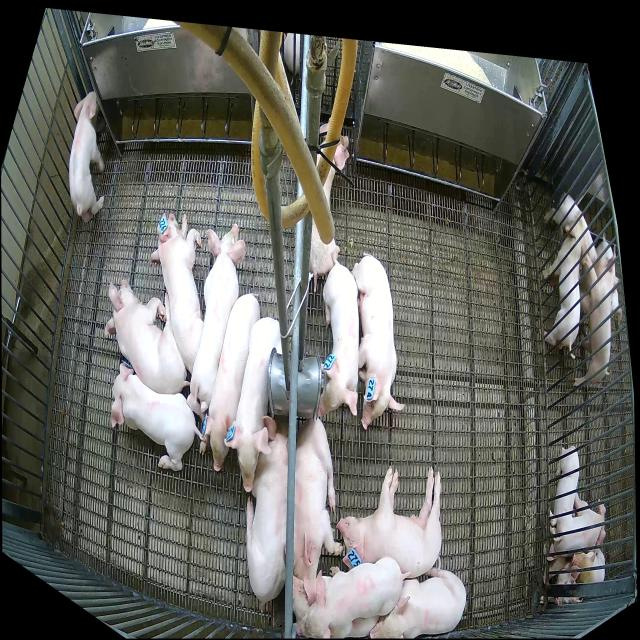pig: (337, 465, 442, 578), (187, 223, 246, 423), (199, 293, 260, 471), (224, 317, 282, 492), (104, 279, 190, 397), (112, 362, 199, 471), (352, 256, 406, 430), (296, 557, 407, 638), (149, 212, 204, 373), (293, 418, 344, 580), (247, 415, 289, 603), (309, 123, 350, 292), (370, 568, 466, 639), (317, 252, 358, 416), (292, 575, 382, 637), (69, 92, 104, 224)
